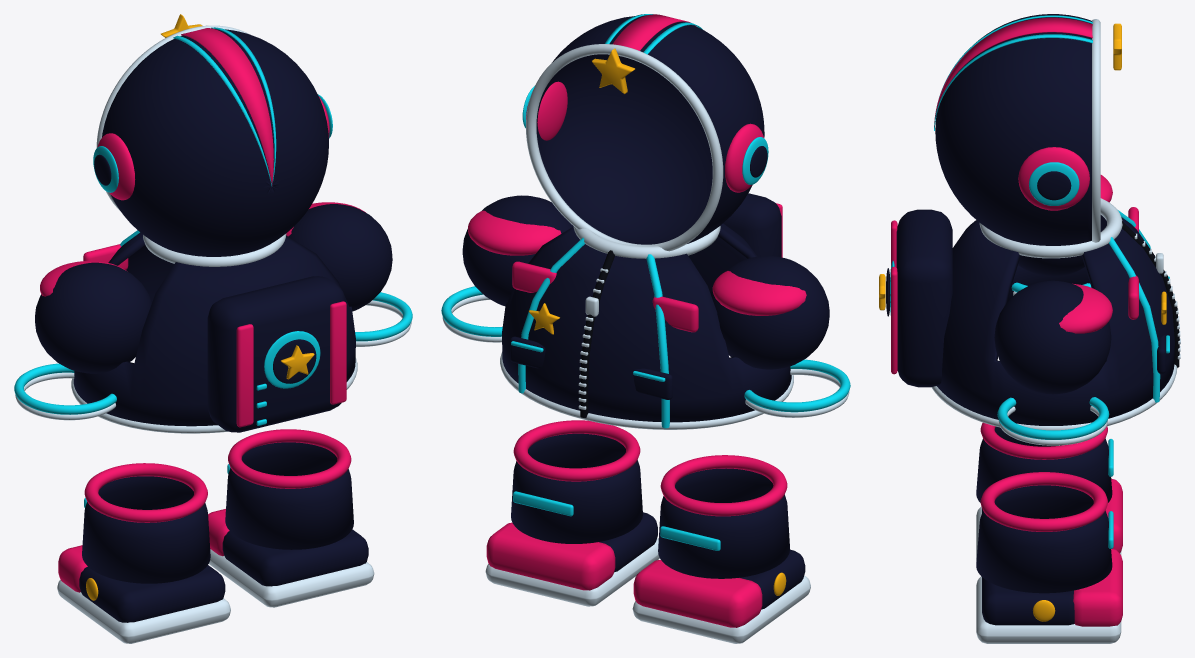
Rendered from CosmicArcade_Outfit.glb.
3 renders of one model, left to right at view 1: azimuth 30°, elevation 25°; view 2: azimuth 150°, elevation 25°; view 3: azimuth 270°, elevation 25°, orthographic. The views are drawn at different scales.
Visible parts, largest first — view 1: CA_Head, CA_UpperTorso, CA_RightLowerLeg, CA_LeftLowerLeg, CA_LeftUpperArm, CA_LeftFoot, CA_RightFoot, CA_RightUpperArm, CA_LeftLowerArm, CA_RightLowerArm; view 2: CA_UpperTorso, CA_Head, CA_LeftLowerLeg, CA_RightLowerLeg, CA_LeftUpperArm, CA_LeftFoot, CA_RightFoot, CA_RightUpperArm, CA_LeftLowerArm, CA_RightLowerArm; view 3: CA_UpperTorso, CA_Head, CA_RightLowerLeg, CA_RightUpperArm, CA_RightFoot, CA_LeftLowerLeg, CA_RightLowerArm, CA_LeftUpperArm, CA_LeftFoot.
Part boxes in pixels (x1,y1,x2,y2): CA_Head: (93, 14, 332, 256); CA_UpperTorso: (71, 230, 357, 433); CA_RightLowerLeg: (225, 429, 353, 549); CA_LeftLowerLeg: (82, 463, 210, 583); CA_LeftUpperArm: (35, 261, 151, 373); CA_LeftFoot: (57, 545, 230, 643); CA_RightFoot: (208, 509, 374, 607); CA_RightUpperArm: (286, 202, 392, 311); CA_LeftLowerArm: (14, 363, 116, 420); CA_RightLowerArm: (355, 292, 412, 346); CA_UpperTorso: (500, 193, 793, 429); CA_Head: (522, 14, 768, 251); CA_LeftLowerLeg: (658, 455, 789, 578); CA_RightLowerLeg: (511, 420, 642, 543); CA_LeftUpperArm: (710, 255, 829, 369); CA_LeftFoot: (632, 549, 810, 643); CA_RightFoot: (485, 512, 659, 606); CA_RightUpperArm: (462, 195, 573, 305); CA_LeftLowerArm: (744, 359, 850, 417); CA_RightLowerArm: (441, 286, 502, 342); CA_UpperTorso: (879, 198, 1180, 430); CA_Head: (934, 14, 1121, 245); CA_RightLowerLeg: (976, 472, 1113, 593); CA_RightUpperArm: (994, 280, 1112, 394); CA_RightFoot: (976, 548, 1122, 643); CA_LeftLowerLeg: (976, 422, 1113, 502); CA_RightLowerArm: (997, 397, 1109, 445); CA_LeftUpperArm: (1018, 175, 1112, 276); CA_LeftFoot: (976, 478, 1122, 561).
Bounding box in the file's own units: 4.09 × 5.63 × 2.74.
1 material, 1 textured.
